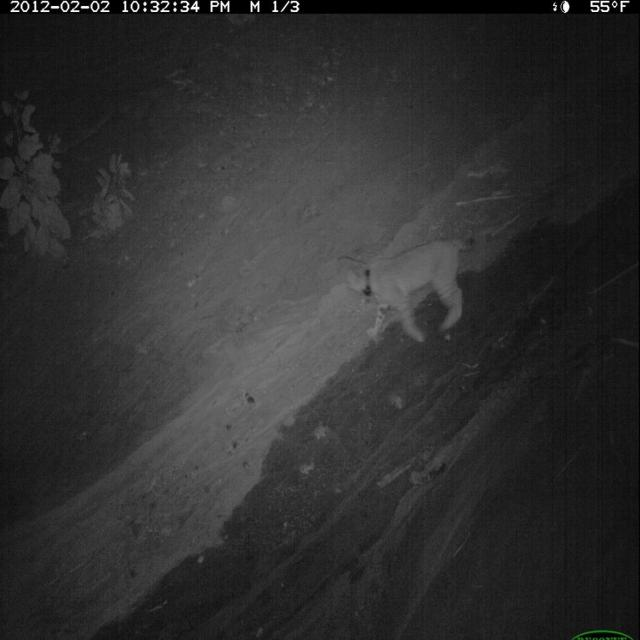bobcat: (344, 237, 467, 350)
